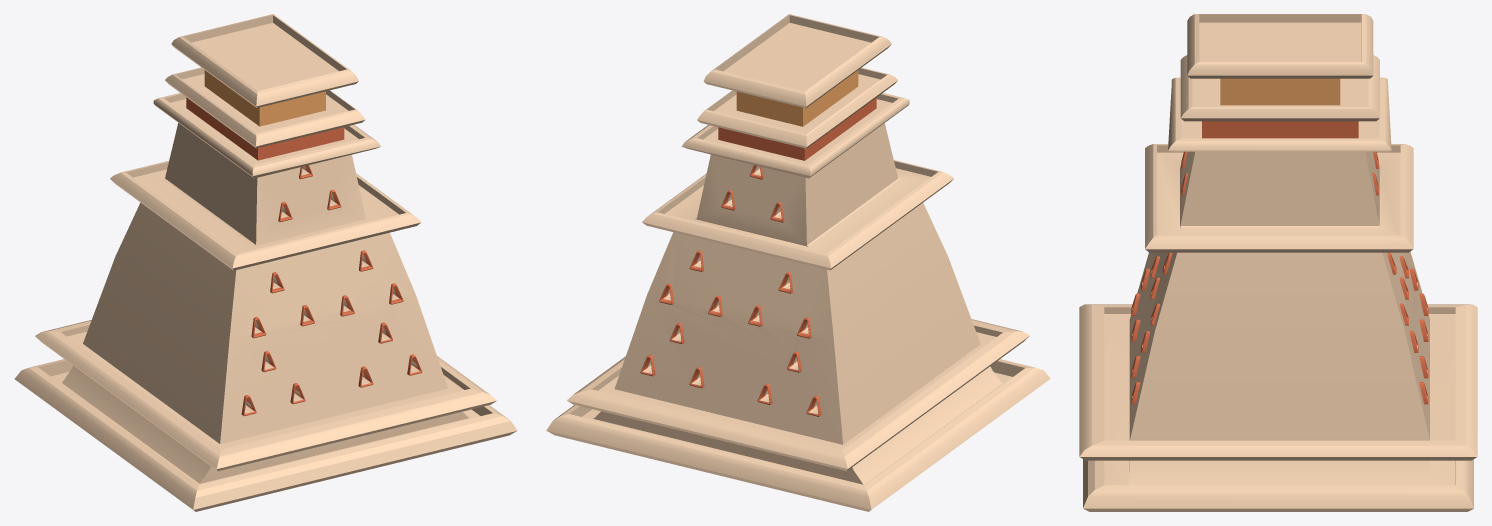
3 renders of one model, left to right at view 1: azimuth 30°, elevation 25°; view 2: azimuth 150°, elevation 25°; view 3: azimuth 270°, elevation 25°, orthographic. The views are drawn at different scales.
Visible parts, largest first — view 1: background building 4.001; view 2: background building 4.001; view 3: background building 4.001.
Boxes of the visible parts, left/top/right/bottom form: background building 4.001: left=14, top=14, right=517, bottom=511; background building 4.001: left=546, top=14, right=1050, bottom=511; background building 4.001: left=1079, top=14, right=1477, bottom=511.
Bounding box in the file's own units: 900 × 951 × 875.
